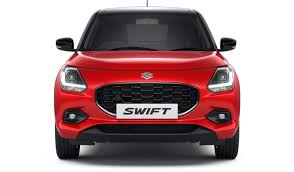Swift: (50, 10, 242, 161)
